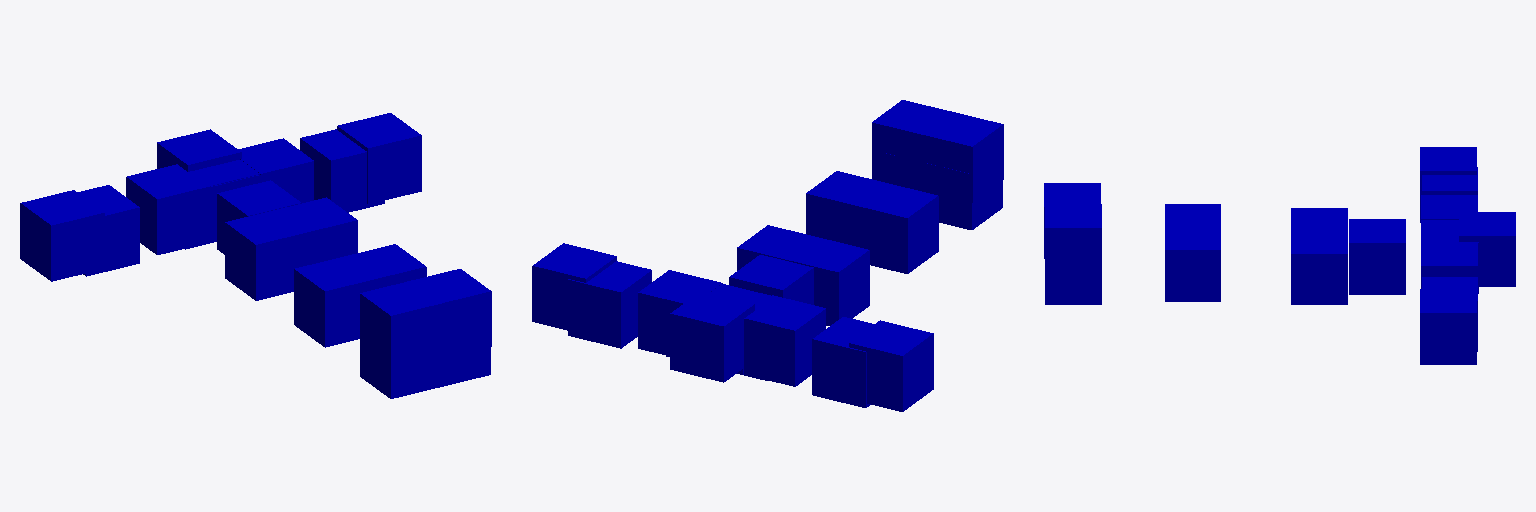
--- Render facts (derived) ---
3 views of the same robot in one strip: view 1: azimuth 30°, elevation 25°; view 2: azimuth 150°, elevation 25°; view 3: azimuth 270°, elevation 25° (orthographic).
Robot: rocketbox_male — 64 links, 63 joints (57 revolute, 3 continuous, 3 prismatic); root link root_link; default pose: every joint at zero.
Visible links, largest first — view 1: RightHand_x_link, RightToes_x_link, RightArm_x_link, RightUpLeg_x_link, RightLeg_x_link, LeftHand_x_link, LeftToes_x_link, LeftForeArm_x_link, LeftUpLeg_x_link, RightForeArm_x_link, LeftArm_x_link, HEad_x_link (+5 smaller); view 2: RightLeg_x_link, HEad_x_link, RightHand_x_link, LeftForeArm_x_link, RightToes_x_link, RightUpLeg_x_link, RightArm_x_link, RightForeArm_x_link, LeftHand_x_link, LeftLeg_x_link, RightFoot_x_link, LeftArm_x_link (+6 smaller); view 3: Spine_x_link, LeftHand_x_link, LeftToes_x_link, LeftUpLeg_x_link, LeftLeg_x_link, HEad_x_link, LeftArm_x_link, RightHand_x_link, LeftFoot_x_link, RightToes_x_link, RightUpLeg_x_link, RightLeg_x_link (+4 smaller).
Boxes of the visible links, box(x1,y1,x2,y2) form: RightHand_x_link: box(20, 190, 104, 281); RightToes_x_link: box(360, 280, 444, 371); RightArm_x_link: box(126, 164, 210, 254); RightUpLeg_x_link: box(225, 210, 308, 300); RightLeg_x_link: box(294, 256, 378, 347); LeftHand_x_link: box(337, 113, 421, 204); LeftToes_x_link: box(407, 269, 491, 358); LeftForeArm_x_link: box(300, 129, 384, 212); LeftUpLeg_x_link: box(273, 197, 357, 265); RightForeArm_x_link: box(78, 185, 139, 276); LeftArm_x_link: box(238, 138, 313, 202); HEad_x_link: box(157, 129, 241, 171); RightLeg_x_link: box(854, 183, 938, 273); HEad_x_link: box(670, 291, 754, 382); RightHand_x_link: box(849, 320, 933, 411); LeftForeArm_x_link: box(568, 261, 651, 348); RightToes_x_link: box(925, 111, 1003, 202); RightUpLeg_x_link: box(785, 237, 869, 325); RightArm_x_link: box(744, 295, 825, 386); RightForeArm_x_link: box(812, 317, 873, 407); LeftHand_x_link: box(532, 243, 616, 330); LeftLeg_x_link: box(806, 171, 888, 245); RightFoot_x_link: box(918, 161, 1002, 229); LeftArm_x_link: box(638, 270, 722, 354); Spine_x_link: box(1349, 219, 1405, 294); LeftHand_x_link: box(1420, 289, 1476, 364); LeftToes_x_link: box(1045, 204, 1101, 279); LeftUpLeg_x_link: box(1291, 232, 1347, 304); LeftLeg_x_link: box(1165, 228, 1220, 301); HEad_x_link: box(1459, 212, 1515, 286); LeftArm_x_link: box(1421, 242, 1477, 288); RightHand_x_link: box(1420, 147, 1476, 222); LeftFoot_x_link: box(1045, 280, 1101, 304); RightToes_x_link: box(1044, 183, 1100, 258); RightUpLeg_x_link: box(1291, 208, 1347, 231); RightLeg_x_link: box(1165, 204, 1220, 227).
Bounding box of the posed robot: 1.38 × 1.66 × 0.3099 m (x, y, z).
Meshes: 1 distinct files referenced, 19 mesh visuals loaded (1 OBJ).

URDF robot description (rocketbox_male):
<?xml version="1.0"?>
<robot xmlns:sensor="http://playerstage.sourceforge.net/gazebo/xmlschema/#sensor"
       xmlns:controller="http://playerstage.sourceforge.net/gazebo/xmlschema/#controller"
       xmlns:interface="http://playerstage.sourceforge.net/gazebo/xmlschema/#interface"
       xmlns:xacro="http://playerstage.sourceforge.net/gazebo/xmlschema/#interface"
       name="rocketbox_male" >

    <material name="Blue">
      <color rgba="0.0 0.0 0.8 1.0"/>
    </material>
    <material name="Green">
      <color rgba="0.0 0.8 0.0 1.0"/>
    </material>
    <material name="Grey">
      <color rgba="0.7 0.7 0.7 1.0"/>
    </material>
    <material name="Grey2">
      <color rgba="0.9 0.9 0.9 1.0"/>
    </material>
    <material name="Red">
      <color rgba="0.8 0.0 0.0 1.0"/>
    </material>
    <material name="White">
      <color rgba="1.0 1.0 1.0 1.0"/>
    </material>
    <material name="Black">
      <color rgba="0.1 0.1 0.1 1.0"/>
    </material>
    <material name="LightGrey">
      <color rgba="0.6 0.6 0.6 1.0"/>
    </material>

    <link name="root_link"/>
      <link name="base_prismatic_dummy1">
        <visual>
          <origin rpy="0 0 0" xyz="0 0 0"/>
          <geometry>
            <box size="0.001 0.001 0.001"/>
          </geometry>
          <material name="Blue"/>
        </visual>
      </link>
      <link name="base_prismatic_dummy2">
        <visual>
          <origin rpy="0 0 0" xyz="0 0 0"/>
          <geometry>
            <box size="0.001 0.001 0.001"/>
          </geometry>
          <material name="Blue"/>
        </visual>
      </link>
      <link name="base_prismatic_dummy3">
        <visual>
          <origin rpy="0 0 0" xyz="0 0 0"/>
          <geometry>
            <box size="0.001 0.001 0.001"/>
          </geometry>
          <material name="Blue"/>
        </visual>
      </link>
      <link name="base_revolute_dummy1">
        <visual>
          <origin rpy="0 0 0" xyz="0 0 0"/>
          <geometry>
            <box size="0.001 0.001 0.001"/>
          </geometry>
          <material name="Blue"/>
        </visual>
      </link>
      <link name="base_revolute_dummy2">
        <visual>
          <origin rpy="0 0 0" xyz="0 0 0"/>
          <geometry>
            <box size="0.001 0.001 0.001"/>
          </geometry>
          <material name="Blue"/>
        </visual>
      </link>
      <joint name="base_prismatic_joint_x" type="prismatic">
        <axis xyz="1 0 0"/>
        <limit effort="10000" lower ="-5.0" upper="5.0" velocity ="0.6"/>
        <origin rpy="0 0 0" xyz="0 0 1.1713"/>
        <parent link="root_link"/>
        <child link="base_prismatic_dummy1"/>
      </joint>
      <joint name="base_prismatic_joint_y" type="prismatic">
        <axis xyz="0 1 0"/>
        <limit effort="10000" lower ="-5.0" upper="5.0" velocity ="0.6"/>
        <origin rpy="0 0 0" xyz="0 0 0"/>
        <parent link="base_prismatic_dummy1"/>
        <child link="base_prismatic_dummy2"/>
      </joint>
      <joint name="base_prismatic_joint_z" type="prismatic">
        <axis xyz="0 0 1"/>
        <limit effort="10000" lower ="-5.0" upper="5.0" velocity ="0.6"/>
        <origin rpy="0 0 0" xyz="0 0 0"/>
        <parent link="base_prismatic_dummy2"/>
        <child link="base_prismatic_dummy3"/>
      </joint>
      <joint name="base_revolute_joint_x" type="continuous">
        <axis xyz="1 0 0"/>
        <origin rpy="0 0 0" xyz="0 0 0"/>
        <parent link="base_prismatic_dummy3"/>
        <child link="base_revolute_dummy1"/>
      </joint>
      <joint name="base_revolute_joint_y" type="continuous">
        <axis xyz="0 1 0"/>
        <origin rpy="0 0 0" xyz="0 0 0"/>
        <parent link="base_revolute_dummy1"/>
        <child link="base_revolute_dummy2"/>
      </joint>
      <joint name="base_revolute_joint_z" type="continuous">
        <axis xyz="0 0 1"/>
        <origin rpy="0 0 0" xyz="0 0 0"/>
        <parent link="base_revolute_dummy2"/>
        <child link="pelvis_link"/>
      </joint>
      <link name="pelvis_link"/>
      <link name="RightUpLeg_z_link"/>
      <link name="RightUpLeg_y_link"/>
      <link name="RightUpLeg_x_link">
        <visual>
          <origin rpy="0 0 0" xyz="0 0 0"/>
          <geometry>
            <mesh filename="../rocketboxmale/dummy.obj"/>
          </geometry>
          <material name="Blue"/>
        </visual>
        <collision>
          <origin rpy="0 0 0" xyz="0 0 0"/>
          <geometry>
            <mesh filename="../rocketboxmale/dummy.obj"/>
          </geometry>
        </collision>
      </link>
      <joint name="RightUpLeg_z_joint" type ="revolute">
          <axis xyz="0 0 1"/>
          <limit effort="10000" lower ="-3.14" upper="3.14" velocity ="0.6"/>
          <origin rpy="0 0 0" xyz="-0.089458 -0.0866707 0.00101652"/>
          <parent link="pelvis_link"/>
          <child link="RightUpLeg_z_link"/>
      </joint>
      <joint name="RightUpLeg_y_joint" type ="revolute">
          <axis xyz="0 1 0"/>
          <limit effort="10000" lower ="-3.14" upper="3.14" velocity ="0.6"/>
          <origin rpy="0 0 0" xyz="0 0 0"/>
          <parent link="RightUpLeg_z_link"/>
          <child link="RightUpLeg_y_link"/>
      </joint>
      <joint name="RightUpLeg_x_joint" type ="revolute">
          <axis xyz="1 0 0"/>
          <limit effort="10000" lower ="-3.14" upper="3.14" velocity ="0.6"/>
          <origin rpy="0 0 0" xyz="0 0 0"/>
          <parent link="RightUpLeg_y_link"/>
          <child link="RightUpLeg_x_link"/>
      </joint>
      <link name="RightLeg_z_link"/>
      <link name="RightLeg_y_link"/>
      <link name="RightLeg_x_link">
        <visual>
          <origin rpy="0 0 0" xyz="0 0 0"/>
          <geometry>
            <mesh filename="../rocketboxmale/dummy.obj"/>
          </geometry>
          <material name="Blue"/>
        </visual>
        <collision>
          <origin rpy="0 0 0" xyz="0 0 0"/>
          <geometry>
            <mesh filename="../rocketboxmale/dummy.obj"/>
          </geometry>
        </collision>
      </link>
      <joint name="RightLeg_z_joint" type ="revolute">
          <axis xyz="0 0 1"/>
          <limit effort="10000" lower ="-3.14" upper="3.14" velocity ="0.6"/>
          <origin rpy="0 0 0" xyz="0 -0.444227 0.013727"/>
          <parent link="RightUpLeg_x_link"/>
          <child link="RightLeg_z_link"/>
      </joint>
      <joint name="RightLeg_y_joint" type ="revolute">
          <axis xyz="0 1 0"/>
          <limit effort="10000" lower ="-3.14" upper="3.14" velocity ="0.6"/>
          <origin rpy="0 0 0" xyz="0 0 0"/>
          <parent link="RightLeg_z_link"/>
          <child link="RightLeg_y_link"/>
      </joint>
      <joint name="RightLeg_x_joint" type ="revolute">
          <axis xyz="1 0 0"/>
          <limit effort="10000" lower ="-3.14" upper="3.14" velocity ="0.6"/>
          <origin rpy="0 0 0" xyz="0 0 0"/>
          <parent link="RightLeg_y_link"/>
          <child link="RightLeg_x_link"/>
      </joint>
      <link name="RightFoot_z_link"/>
      <link name="RightFoot_y_link"/>
      <link name="RightFoot_x_link">
        <visual>
          <origin rpy="0 0 0" xyz="0 0 0"/>
          <geometry>
            <mesh filename="../rocketboxmale/dummy.obj"/>
          </geometry>
          <material name="Blue"/>
        </visual>
        <collision>
          <origin rpy="0 0 0" xyz="0 0 0"/>
          <geometry>
            <mesh filename="../rocketboxmale/dummy.obj"/>
          </geometry>
        </collision>
      </link>
      <joint name="RightFoot_z_joint" type ="revolute">
          <axis xyz="0 0 1"/>
          <limit effort="10000" lower ="-3.14" upper="3.14" velocity ="0.6"/>
          <origin rpy="0 0 0" xyz="0.00253549 -0.420924 -0.0146059"/>
          <parent link="RightLeg_x_link"/>
          <child link="RightFoot_z_link"/>
      </joint>
      <joint name="RightFoot_y_joint" type ="revolute">
          <axis xyz="0 1 0"/>
          <limit effort="10000" lower ="-3.14" upper="3.14" velocity ="0.6"/>
          <origin rpy="0 0 0" xyz="0 0 0"/>
          <parent link="RightFoot_z_link"/>
          <child link="RightFoot_y_link"/>
      </joint>
      <joint name="RightFoot_x_joint" type ="revolute">
          <axis xyz="1 0 0"/>
          <limit effort="10000" lower ="-3.14" upper="3.14" velocity ="0.6"/>
          <origin rpy="0 0 0" xyz="0 0 0"/>
          <parent link="RightFoot_y_link"/>
          <child link="RightFoot_x_link"/>
      </joint>
      <link name="RightToes_z_link"/>
      <link name="RightToes_y_link"/>
      <link name="RightToes_x_link">
        <visual>
          <origin rpy="0 0 0" xyz="0 0 0"/>
          <geometry>
            <mesh filename="../rocketboxmale/dummy.obj"/>
          </geometry>
          <material name="Blue"/>
        </visual>
        <collision>
          <origin rpy="0 0 0" xyz="0 0 0"/>
          <geometry>
            <mesh filename="../rocketboxmale/dummy.obj"/>
          </geometry>
        </collision>
      </link>
      <joint name="RightToes_z_joint" type ="revolute">
          <axis xyz="0 0 1"/>
          <limit effort="10000" lower ="-3.14" upper="3.14" velocity ="0.6"/>
          <origin rpy="0 0 0" xyz="-0.0008 -0.00137448 0.0977979"/>
          <parent link="RightFoot_x_link"/>
          <child link="RightToes_z_link"/>
      </joint>
      <joint name="RightToes_y_joint" type ="revolute">
          <axis xyz="0 1 0"/>
          <limit effort="10000" lower ="-3.14" upper="3.14" velocity ="0.6"/>
          <origin rpy="0 0 0" xyz="0 0 0"/>
          <parent link="RightToes_z_link"/>
          <child link="RightToes_y_link"/>
      </joint>
      <joint name="RightToes_x_joint" type ="revolute">
          <axis xyz="1 0 0"/>
          <limit effort="10000" lower ="-3.14" upper="3.14" velocity ="0.6"/>
          <origin rpy="0 0 0" xyz="0 0 0"/>
          <parent link="RightToes_y_link"/>
          <child link="RightToes_x_link"/>
      </joint>
      <link name="Spine_z_link"/>
      <link name="Spine_y_link"/>
      <link name="Spine_x_link">
        <visual>
          <origin rpy="0 0 0" xyz="0 0 0"/>
          <geometry>
            <mesh filename="../rocketboxmale/dummy.obj"/>
          </geometry>
          <material name="Blue"/>
        </visual>
        <collision>
          <origin rpy="0 0 0" xyz="0 0 0"/>
          <geometry>
            <mesh filename="../rocketboxmale/dummy.obj"/>
          </geometry>
        </collision>
      </link>
      <joint name="Spine_z_joint" type ="revolute">
          <axis xyz="0 0 1"/>
          <limit effort="10000" lower ="-3.14" upper="3.14" velocity ="0.6"/>
          <origin rpy="0 0 0" xyz="0 0.118905 0"/>
          <parent link="pelvis_link"/>
          <child link="Spine_z_link"/>
      </joint>
      <joint name="Spine_y_joint" type ="revolute">
          <axis xyz="0 1 0"/>
          <limit effort="10000" lower ="-3.14" upper="3.14" velocity ="0.6"/>
          <origin rpy="0 0 0" xyz="0 0 0"/>
          <parent link="Spine_z_link"/>
          <child link="Spine_y_link"/>
      </joint>
      <joint name="Spine_x_joint" type ="revolute">
          <axis xyz="1 0 0"/>
          <limit effort="10000" lower ="-3.14" upper="3.14" velocity ="0.6"/>
          <origin rpy="0 0 0" xyz="0 0 0"/>
          <parent link="Spine_y_link"/>
          <child link="Spine_x_link"/>
      </joint>
      <link name="Spine1_z_link"/>
      <link name="Spine1_y_link"/>
      <link name="Spine1_x_link">
        <visual>
          <origin rpy="0 0 0" xyz="0 0 0"/>
          <geometry>
            <mesh filename="../rocketboxmale/dummy.obj"/>
          </geometry>
          <material name="Blue"/>
        </visual>
        <collision>
          <origin rpy="0 0 0" xyz="0 0 0"/>
          <geometry>
            <mesh filename="../rocketboxmale/dummy.obj"/>
          </geometry>
        </collision>
      </link>
      <joint name="Spine1_z_joint" type ="revolute">
          <axis xyz="0 0 1"/>
          <limit effort="10000" lower ="-3.14" upper="3.14" velocity ="0.6"/>
          <origin rpy="0 0 0" xyz="0 0.256574 0.00127663"/>
          <parent link="Spine_x_link"/>
          <child link="Spine1_z_link"/>
      </joint>
      <joint name="Spine1_y_joint" type ="revolute">
          <axis xyz="0 1 0"/>
          <limit effort="10000" lower ="-3.14" upper="3.14" velocity ="0.6"/>
          <origin rpy="0 0 0" xyz="0 0 0"/>
          <parent link="Spine1_z_link"/>
          <child link="Spine1_y_link"/>
      </joint>
      <joint name="Spine1_x_joint" type ="revolute">
          <axis xyz="1 0 0"/>
          <limit effort="10000" lower ="-3.14" upper="3.14" velocity ="0.6"/>
          <origin rpy="0 0 0" xyz="0 0 0"/>
          <parent link="Spine1_y_link"/>
          <child link="Spine1_x_link"/>
      </joint>
      <link name="HEad_z_link"/>
      <link name="HEad_y_link"/>
      <link name="HEad_x_link">
        <visual>
          <origin rpy="0 0 0" xyz="0 0 0"/>
          <geometry>
            <mesh filename="../rocketboxmale/dummy.obj"/>
          </geometry>
          <material name="Blue"/>
        </visual>
        <collision>
          <origin rpy="0 0 0" xyz="0 0 0"/>
          <geometry>
            <mesh filename="../rocketboxmale/dummy.obj"/>
          </geometry>
        </collision>
      </link>
      <joint name="HEad_z_joint" type ="revolute">
          <axis xyz="0 0 1"/>
          <limit effort="10000" lower ="-3.14" upper="3.14" velocity ="0.6"/>
          <origin rpy="0 0 0" xyz="-0.0029 0.127742 0.0251395"/>
          <parent link="Spine1_x_link"/>
          <child link="HEad_z_link"/>
      </joint>
      <joint name="HEad_y_joint" type ="revolute">
          <axis xyz="0 1 0"/>
          <limit effort="10000" lower ="-3.14" upper="3.14" velocity ="0.6"/>
          <origin rpy="0 0 0" xyz="0 0 0"/>
          <parent link="HEad_z_link"/>
          <child link="HEad_y_link"/>
      </joint>
      <joint name="HEad_x_joint" type ="revolute">
          <axis xyz="1 0 0"/>
          <limit effort="10000" lower ="-3.14" upper="3.14" velocity ="0.6"/>
          <origin rpy="0 0 0" xyz="0 0 0"/>
          <parent link="HEad_y_link"/>
          <child link="HEad_x_link"/>
      </joint>
      <link name="LeftShoulder1_z_link"/>
      <link name="LeftShoulder1_y_link"/>
      <link name="LeftShoulder1_x_link">
        <visual>
          <origin rpy="0 0 0" xyz="0 0 0"/>
          <geometry>
            <mesh filename="../rocketboxmale/dummy.obj"/>
          </geometry>
          <material name="Blue"/>
        </visual>
        <collision>
          <origin rpy="0 0 0" xyz="0 0 0"/>
          <geometry>
            <mesh filename="../rocketboxmale/dummy.obj"/>
          </geometry>
        </collision>
      </link>
      <joint name="LeftShoulder1_z_joint" type ="revolute">
          <axis xyz="0 0 1"/>
          <limit effort="10000" lower ="-3.14" upper="3.14" velocity ="0.6"/>
          <origin rpy="0 0 0" xyz="0.0899 -0.00362252 -0.0022"/>
          <parent link="Spine1_x_link"/>
          <child link="LeftShoulder1_z_link"/>
      </joint>
      <joint name="LeftShoulder1_y_joint" type ="revolute">
          <axis xyz="0 1 0"/>
          <limit effort="10000" lower ="-3.14" upper="3.14" velocity ="0.6"/>
          <origin rpy="0 0 0" xyz="0 0 0"/>
          <parent link="LeftShoulder1_z_link"/>
          <child link="LeftShoulder1_y_link"/>
      </joint>
      <joint name="LeftShoulder1_x_joint" type ="revolute">
          <axis xyz="1 0 0"/>
          <limit effort="10000" lower ="-3.14" upper="3.14" velocity ="0.6"/>
          <origin rpy="0 0 0" xyz="0 0 0"/>
          <parent link="LeftShoulder1_y_link"/>
          <child link="LeftShoulder1_x_link"/>
      </joint>
      <link name="LeftArm_z_link"/>
      <link name="LeftArm_y_link"/>
      <link name="LeftArm_x_link">
        <visual>
          <origin rpy="0 0 0" xyz="0 0 0"/>
          <geometry>
            <mesh filename="../rocketboxmale/dummy.obj"/>
          </geometry>
          <material name="Blue"/>
        </visual>
        <collision>
          <origin rpy="0 0 0" xyz="0 0 0"/>
          <geometry>
            <mesh filename="../rocketboxmale/dummy.obj"/>
          </geometry>
        </collision>
      </link>
      <joint name="LeftArm_z_joint" type ="revolute">
          <axis xyz="0 0 1"/>
          <limit effort="10000" lower ="-3.14" upper="3.14" velocity ="0.6"/>
          <origin rpy="0 0 0" xyz="0.102827 -3.37999e-05 0.00322123"/>
          <parent link="LeftShoulder1_x_link"/>
          <child link="LeftArm_z_link"/>
      </joint>
      <joint name="LeftArm_y_joint" type ="revolute">
          <axis xyz="0 1 0"/>
          <limit effort="10000" lower ="-3.14" upper="3.14" velocity ="0.6"/>
          <origin rpy="0 0 0" xyz="0 0 0"/>
          <parent link="LeftArm_z_link"/>
          <child link="LeftArm_y_link"/>
      </joint>
      <joint name="LeftArm_x_joint" type ="revolute">
          <axis xyz="1 0 0"/>
          <limit effort="10000" lower ="-3.14" upper="3.14" velocity ="0.6"/>
          <origin rpy="0 0 0" xyz="0 0 0"/>
          <parent link="LeftArm_y_link"/>
          <child link="LeftArm_x_link"/>
      </joint>
      <link name="LeftForeArm_z_link"/>
      <link name="LeftForeArm_y_link"/>
      <link name="LeftForeArm_x_link">
        <visual>
          <origin rpy="0 0 0" xyz="0 0 0"/>
          <geometry>
            <mesh filename="../rocketboxmale/dummy.obj"/>
          </geometry>
          <material name="Blue"/>
        </visual>
        <collision>
          <origin rpy="0 0 0" xyz="0 0 0"/>
          <geometry>
            <mesh filename="../rocketboxmale/dummy.obj"/>
          </geometry>
        </collision>
      </link>
      <joint name="LeftForeArm_z_joint" type ="revolute">
          <axis xyz="0 0 1"/>
          <limit effort="10000" lower ="-3.14" upper="3.14" velocity ="0.6"/>
          <origin rpy="0 0 0" xyz="0.262597 0.00099144 -0.0142434"/>
          <parent link="LeftArm_x_link"/>
          <child link="LeftForeArm_z_link"/>
      </joint>
      <joint name="LeftForeArm_y_joint" type ="revolute">
          <axis xyz="0 1 0"/>
          <limit effort="10000" lower ="-3.14" upper="3.14" velocity ="0.6"/>
          <origin rpy="0 0 0" xyz="0 0 0"/>
          <parent link="LeftForeArm_z_link"/>
          <child link="LeftForeArm_y_link"/>
      </joint>
      <joint name="LeftForeArm_x_joint" type ="revolute">
          <axis xyz="1 0 0"/>
          <limit effort="10000" lower ="-3.14" upper="3.14" velocity ="0.6"/>
          <origin rpy="0 0 0" xyz="0 0 0"/>
          <parent link="LeftForeArm_y_link"/>
          <child link="LeftForeArm_x_link"/>
      </joint>
      <link name="LeftHand_z_link"/>
      <link name="LeftHand_y_link"/>
      <link name="LeftHand_x_link">
        <visual>
          <origin rpy="0 0 0" xyz="0 0 0"/>
          <geometry>
            <mesh filename="../rocketboxmale/dummy.obj"/>
          </geometry>
          <material name="Blue"/>
        </visual>
        <collision>
          <origin rpy="0 0 0" xyz="0 0 0"/>
          <geometry>
            <mesh filename="../rocketboxmale/dummy.obj"/>
          </geometry>
        </collision>
      </link>
      <joint name="LeftHand_z_joint" type ="revolute">
          <axis xyz="0 0 1"/>
          <limit effort="10000" lower ="-3.14" upper="3.14" velocity ="0.6"/>
          <origin rpy="0 0 0" xyz="0.134179 -0.00600076 0.0150291"/>
          <parent link="LeftForeArm_x_link"/>
          <child link="LeftHand_z_link"/>
      </joint>
      <joint name="LeftHand_y_joint" type ="revolute">
          <axis xyz="0 1 0"/>
          <limit effort="10000" lower ="-3.14" upper="3.14" velocity ="0.6"/>
          <origin rpy="0 0 0" xyz="0 0 0"/>
          <parent link="LeftHand_z_link"/>
          <child link="LeftHand_y_link"/>
      </joint>
      <joint name="LeftHand_x_joint" type ="revolute">
          <axis xyz="1 0 0"/>
          <limit effort="10000" lower ="-3.14" upper="3.14" velocity ="0.6"/>
          <origin rpy="0 0 0" xyz="0 0 0"/>
          <parent link="LeftHand_y_link"/>
          <child link="LeftHand_x_link"/>
      </joint>
      <link name="RightShoulder_z_link"/>
      <link name="RightShoulder_y_link"/>
      <link name="RightShoulder_x_link">
        <visual>
          <origin rpy="0 0 0" xyz="0 0 0"/>
          <geometry>
            <mesh filename="../rocketboxmale/dummy.obj"/>
          </geometry>
          <material name="Blue"/>
        </visual>
        <collision>
          <origin rpy="0 0 0" xyz="0 0 0"/>
          <geometry>
            <mesh filename="../rocketboxmale/dummy.obj"/>
          </geometry>
        </collision>
      </link>
      <joint name="RightShoulder_z_joint" type ="revolute">
          <axis xyz="0 0 1"/>
          <limit effort="10000" lower ="-3.14" upper="3.14" velocity ="0.6"/>
          <origin rpy="0 0 0" xyz="-0.0899 -0.00362252 -0.0022"/>
          <parent link="Spine1_x_link"/>
          <child link="RightShoulder_z_link"/>
      </joint>
      <joint name="RightShoulder_y_joint" type ="revolute">
          <axis xyz="0 1 0"/>
          <limit effort="10000" lower ="-3.14" upper="3.14" velocity ="0.6"/>
          <origin rpy="0 0 0" xyz="0 0 0"/>
          <parent link="RightShoulder_z_link"/>
          <child link="RightShoulder_y_link"/>
      </joint>
      <joint name="RightShoulder_x_joint" type ="revolute">
          <axis xyz="1 0 0"/>
          <limit effort="10000" lower ="-3.14" upper="3.14" velocity ="0.6"/>
          <origin rpy="0 0 0" xyz="0 0 0"/>
          <parent link="RightShoulder_y_link"/>
          <child link="RightShoulder_x_link"/>
      </joint>
      <link name="RightArm_z_link"/>
      <link name="RightArm_y_link"/>
      <link name="RightArm_x_link">
        <visual>
          <origin rpy="0 0 0" xyz="0 0 0"/>
          <geometry>
            <mesh filename="../rocketboxmale/dummy.obj"/>
          </geometry>
          <material name="Blue"/>
        </visual>
        <collision>
          <origin rpy="0 0 0" xyz="0 0 0"/>
          <geometry>
            <mesh filename="../rocketboxmale/dummy.obj"/>
          </geometry>
        </collision>
      </link>
      <joint name="RightArm_z_joint" type ="revolute">
          <axis xyz="0 0 1"/>
          <limit effort="10000" lower ="-3.14" upper="3.14" velocity ="0.6"/>
          <origin rpy="0 0 0" xyz="-0.102827 -3.38e-05 0.00322123"/>
          <parent link="RightShoulder_x_link"/>
          <child link="RightArm_z_link"/>
      </joint>
      <joint name="RightArm_y_joint" type ="revolute">
          <axis xyz="0 1 0"/>
          <limit effort="10000" lower ="-3.14" upper="3.14" velocity ="0.6"/>
          <origin rpy="0 0 0" xyz="0 0 0"/>
          <parent link="RightArm_z_link"/>
          <child link="RightArm_y_link"/>
      </joint>
      <joint name="RightArm_x_joint" type ="revolute">
          <axis xyz="1 0 0"/>
          <limit effort="10000" lower ="-3.14" upper="3.14" velocity ="0.6"/>
          <origin rpy="0 0 0" xyz="0 0 0"/>
          <parent link="RightArm_y_link"/>
          <child link="RightArm_x_link"/>
      </joint>
      <link name="RightForeArm_z_link"/>
      <link name="RightForeArm_y_link"/>
      <link name="RightForeArm_x_link">
        <visual>
          <origin rpy="0 0 0" xyz="0 0 0"/>
          <geometry>
            <mesh filename="../rocketboxmale/dummy.obj"/>
          </geometry>
          <material name="Blue"/>
        </visual>
        <collision>
          <origin rpy="0 0 0" xyz="0 0 0"/>
          <geometry>
            <mesh filename="../rocketboxmale/dummy.obj"/>
          </geometry>
        </collision>
      </link>
      <joint name="RightForeArm_z_joint" type ="revolute">
          <axis xyz="0 0 1"/>
          <limit effort="10000" lower ="-3.14" upper="3.14" velocity ="0.6"/>
          <origin rpy="0 0 0" xyz="-0.26364 0.00099144 -0.0142434"/>
          <parent link="RightArm_x_link"/>
          <child link="RightForeArm_z_link"/>
      </joint>
      <joint name="RightForeArm_y_joint" type ="revolute">
          <axis xyz="0 1 0"/>
          <limit effort="10000" lower ="-3.14" upper="3.14" velocity ="0.6"/>
          <origin rpy="0 0 0" xyz="0 0 0"/>
          <parent link="RightForeArm_z_link"/>
          <child link="RightForeArm_y_link"/>
      </joint>
      <joint name="RightForeArm_x_joint" type ="revolute">
          <axis xyz="1 0 0"/>
          <limit effort="10000" lower ="-3.14" upper="3.14" velocity ="0.6"/>
          <origin rpy="0 0 0" xyz="0 0 0"/>
          <parent link="RightForeArm_y_link"/>
          <child link="RightForeArm_x_link"/>
      </joint>
      <link name="RightHand_z_link"/>
      <link name="RightHand_y_link"/>
      <link name="RightHand_x_link">
        <visual>
          <origin rpy="0 0 0" xyz="0 0 0"/>
          <geometry>
            <mesh filename="../rocketboxmale/dummy.obj"/>
          </geometry>
          <material name="Blue"/>
        </visual>
        <collision>
          <origin rpy="0 0 0" xyz="0 0 0"/>
          <geometry>
            <mesh filename="../rocketboxmale/dummy.obj"/>
          </geometry>
        </collision>
      </link>
      <joint name="RightHand_z_joint" type ="revolute">
          <axis xyz="0 0 1"/>
          <limit effort="10000" lower ="-3.14" upper="3.14" velocity ="0.6"/>
          <origin rpy="0 0 0" xyz="-0.133273 -0.00600075 0.0150291"/>
          <parent link="RightForeArm_x_link"/>
          <child link="RightHand_z_link"/>
      </joint>
      <joint name="RightHand_y_joint" type ="revolute">
          <axis xyz="0 1 0"/>
          <limit effort="10000" lower ="-3.14" upper="3.14" velocity ="0.6"/>
          <origin rpy="0 0 0" xyz="0 0 0"/>
          <parent link="RightHand_z_link"/>
          <child link="RightHand_y_link"/>
      </joint>
      <joint name="RightHand_x_joint" type ="revolute">
          <axis xyz="1 0 0"/>
          <limit effort="10000" lower ="-3.14" upper="3.14" velocity ="0.6"/>
          <origin rpy="0 0 0" xyz="0 0 0"/>
          <parent link="RightHand_y_link"/>
          <child link="RightHand_x_link"/>
      </joint>
      <link name="LeftUpLeg_z_link"/>
      <link name="LeftUpLeg_y_link"/>
      <link name="LeftUpLeg_x_link">
        <visual>
          <origin rpy="0 0 0" xyz="0 0 0"/>
          <geometry>
            <mesh filename="../rocketboxmale/dummy.obj"/>
          </geometry>
          <material name="Blue"/>
        </visual>
        <collision>
          <origin rpy="0 0 0" xyz="0 0 0"/>
          <geometry>
            <mesh filename="../rocketboxmale/dummy.obj"/>
          </geometry>
        </collision>
      </link>
      <joint name="LeftUpLeg_z_joint" type ="revolute">
          <axis xyz="0 0 1"/>
          <limit effort="10000" lower ="-3.14" upper="3.14" velocity ="0.6"/>
          <origin rpy="0 0 0" xyz="0.089458 -0.0866707 0.00101652"/>
          <parent link="pelvis_link"/>
          <child link="LeftUpLeg_z_link"/>
      </joint>
      <joint name="LeftUpLeg_y_joint" type ="revolute">
          <axis xyz="0 1 0"/>
          <limit effort="10000" lower ="-3.14" upper="3.14" velocity ="0.6"/>
          <origin rpy="0 0 0" xyz="0 0 0"/>
          <parent link="LeftUpLeg_z_link"/>
          <child link="LeftUpLeg_y_link"/>
      </joint>
      <joint name="LeftUpLeg_x_joint" type ="revolute">
          <axis xyz="1 0 0"/>
          <limit effort="10000" lower ="-3.14" upper="3.14" velocity ="0.6"/>
          <origin rpy="0 0 0" xyz="0 0 0"/>
          <parent link="LeftUpLeg_y_link"/>
          <child link="LeftUpLeg_x_link"/>
      </joint>
      <link name="LeftLeg_z_link"/>
      <link name="LeftLeg_y_link"/>
      <link name="LeftLeg_x_link">
        <visual>
          <origin rpy="0 0 0" xyz="0 0 0"/>
          <geometry>
            <mesh filename="../rocketboxmale/dummy.obj"/>
          </geometry>
          <material name="Blue"/>
        </visual>
        <collision>
          <origin rpy="0 0 0" xyz="0 0 0"/>
          <geometry>
            <mesh filename="../rocketboxmale/dummy.obj"/>
          </geometry>
        </collision>
      </link>
      <joint name="LeftLeg_z_joint" type ="revolute">
          <axis xyz="0 0 1"/>
          <limit effort="10000" lower ="-3.14" upper="3.14" velocity ="0.6"/>
          <origin rpy="0 0 0" xyz="0 -0.444227 0.013727"/>
          <parent link="LeftUpLeg_x_link"/>
          <child link="LeftLeg_z_link"/>
      </joint>
      <joint name="LeftLeg_y_joint" type ="revolute">
          <axis xyz="0 1 0"/>
          <limit effort="10000" lower ="-3.14" upper="3.14" velocity ="0.6"/>
          <origin rpy="0 0 0" xyz="0 0 0"/>
          <parent link="LeftLeg_z_link"/>
          <child link="LeftLeg_y_link"/>
      </joint>
      <joint name="LeftLeg_x_joint" type ="revolute">
          <axis xyz="1 0 0"/>
          <limit effort="10000" lower ="-3.14" upper="3.14" velocity ="0.6"/>
          <origin rpy="0 0 0" xyz="0 0 0"/>
          <parent link="LeftLeg_y_link"/>
          <child link="LeftLeg_x_link"/>
      </joint>
      <link name="LeftFoot_z_link"/>
      <link name="LeftFoot_y_link"/>
      <link name="LeftFoot_x_link">
        <visual>
          <origin rpy="0 0 0" xyz="0 0 0"/>
          <geometry>
            <mesh filename="../rocketboxmale/dummy.obj"/>
          </geometry>
          <material name="Blue"/>
        </visual>
        <collision>
          <origin rpy="0 0 0" xyz="0 0 0"/>
          <geometry>
            <mesh filename="../rocketboxmale/dummy.obj"/>
          </geometry>
        </collision>
      </link>
      <joint name="LeftFoot_z_joint" type ="revolute">
          <axis xyz="0 0 1"/>
          <limit effort="10000" lower ="-3.14" upper="3.14" velocity ="0.6"/>
          <origin rpy="0 0 0" xyz="-0.00253549 -0.420924 -0.0146059"/>
          <parent link="LeftLeg_x_link"/>
          <child link="LeftFoot_z_link"/>
      </joint>
      <joint name="LeftFoot_y_joint" type ="revolute">
          <axis xyz="0 1 0"/>
          <limit effort="10000" lower ="-3.14" upper="3.14" velocity ="0.6"/>
          <origin rpy="0 0 0" xyz="0 0 0"/>
          <parent link="LeftFoot_z_link"/>
          <child link="LeftFoot_y_link"/>
      </joint>
      <joint name="LeftFoot_x_joint" type ="revolute">
          <axis xyz="1 0 0"/>
          <limit effort="10000" lower ="-3.14" upper="3.14" velocity ="0.6"/>
          <origin rpy="0 0 0" xyz="0 0 0"/>
          <parent link="LeftFoot_y_link"/>
          <child link="LeftFoot_x_link"/>
      </joint>
      <link name="LeftToes_z_link"/>
      <link name="LeftToes_y_link"/>
      <link name="LeftToes_x_link">
        <visual>
          <origin rpy="0 0 0" xyz="0 0 0"/>
          <geometry>
            <mesh filename="../rocketboxmale/dummy.obj"/>
          </geometry>
          <material name="Blue"/>
        </visual>
        <collision>
          <origin rpy="0 0 0" xyz="0 0 0"/>
          <geometry>
            <mesh filename="../rocketboxmale/dummy.obj"/>
          </geometry>
        </collision>
      </link>
      <joint name="LeftToes_z_joint" type ="revolute">
          <axis xyz="0 0 1"/>
          <limit effort="10000" lower ="-3.14" upper="3.14" velocity ="0.6"/>
          <origin rpy="0 0 0" xyz="0.0008 -0.00047448 0.0977979"/>
          <parent link="LeftFoot_x_link"/>
          <child link="LeftToes_z_link"/>
      </joint>
      <joint name="LeftToes_y_joint" type ="revolute">
          <axis xyz="0 1 0"/>
          <limit effort="10000" lower ="-3.14" upper="3.14" velocity ="0.6"/>
          <origin rpy="0 0 0" xyz="0 0 0"/>
          <parent link="LeftToes_z_link"/>
          <child link="LeftToes_y_link"/>
      </joint>
      <joint name="LeftToes_x_joint" type ="revolute">
          <axis xyz="1 0 0"/>
          <limit effort="10000" lower ="-3.14" upper="3.14" velocity ="0.6"/>
          <origin rpy="0 0 0" xyz="0 0 0"/>
          <parent link="LeftToes_y_link"/>
          <child link="LeftToes_x_link"/>
      </joint>

</robot>
